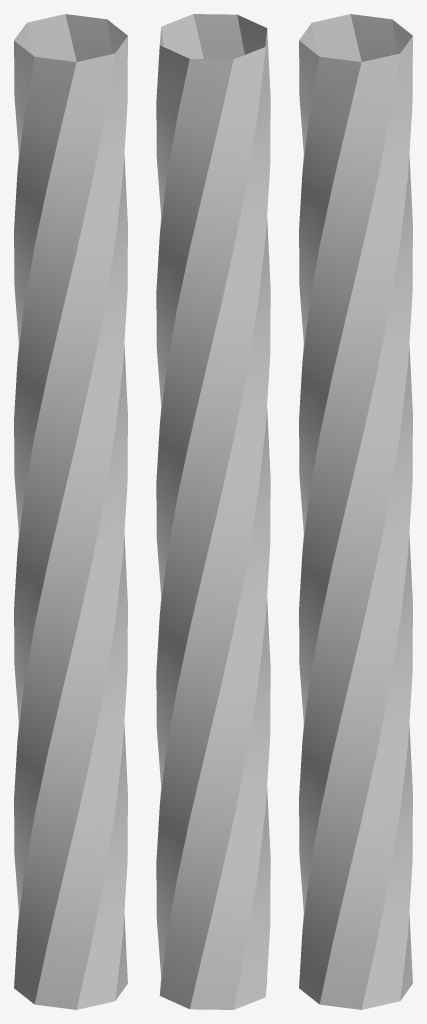
The model's file is turn1_pole.fbx.
3 views of the same model, side by side, from view 1: azimuth 90°, elevation 25°; view 2: azimuth 150°, elevation 25°; view 3: azimuth 270°, elevation 25° (orthographic).
Parts seen in each view (by area): view 1: Yellow_platform 1.014; view 2: Yellow_platform 1.014; view 3: Yellow_platform 1.014.
Boxes of the visible parts, x1,y1,x2,y2 form: Yellow_platform 1.014: (14, 14, 127, 1009); Yellow_platform 1.014: (156, 14, 270, 1009); Yellow_platform 1.014: (299, 14, 412, 1009).
Bounding box in the file's own units: 272 × 272 × 2500.
